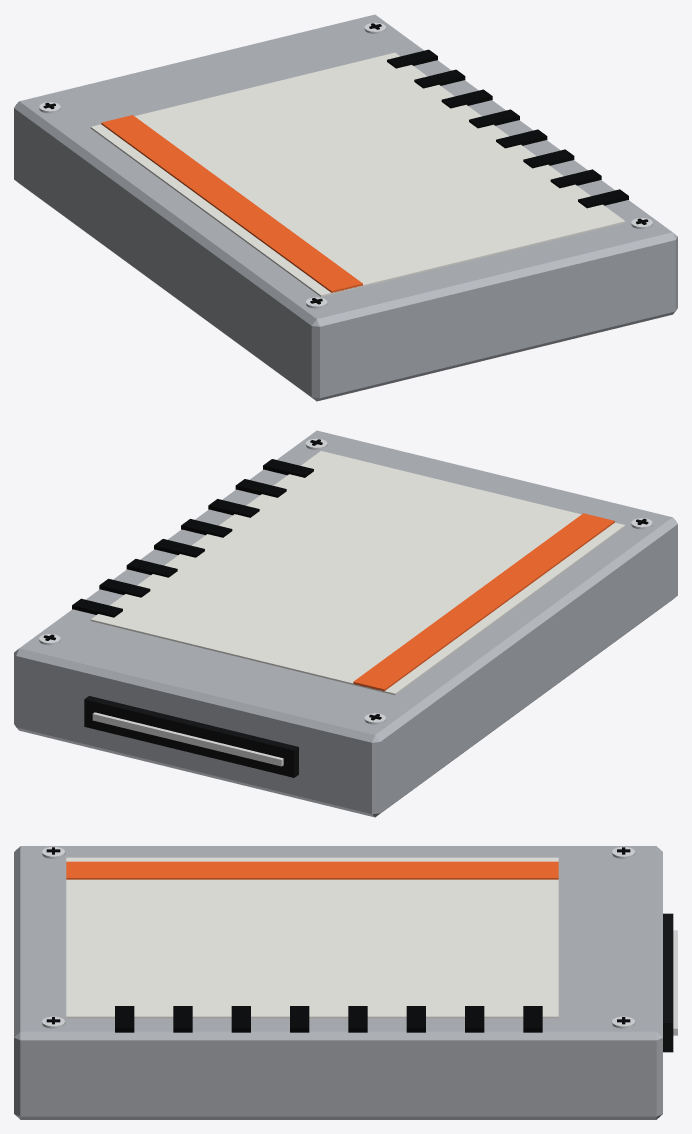
Rendered from hw_sto_sas_ssd_15tb.glb.
The picture shows the model from 3 angles, top to bottom: view 1: azimuth 30°, elevation 25°; view 2: azimuth 150°, elevation 25°; view 3: azimuth 270°, elevation 25°; orthographic projection. The views are drawn at different scales.
Visible parts, largest first — view 1: Body; view 2: Body; view 3: Body.
Part boxes in pixels (bbox=[...]): Body: bbox=[14, 14, 677, 401]; Body: bbox=[14, 430, 677, 817]; Body: bbox=[14, 846, 677, 1119].
Bounding box in the file's own units: 0.0698 × 0.0157 × 0.1025.
